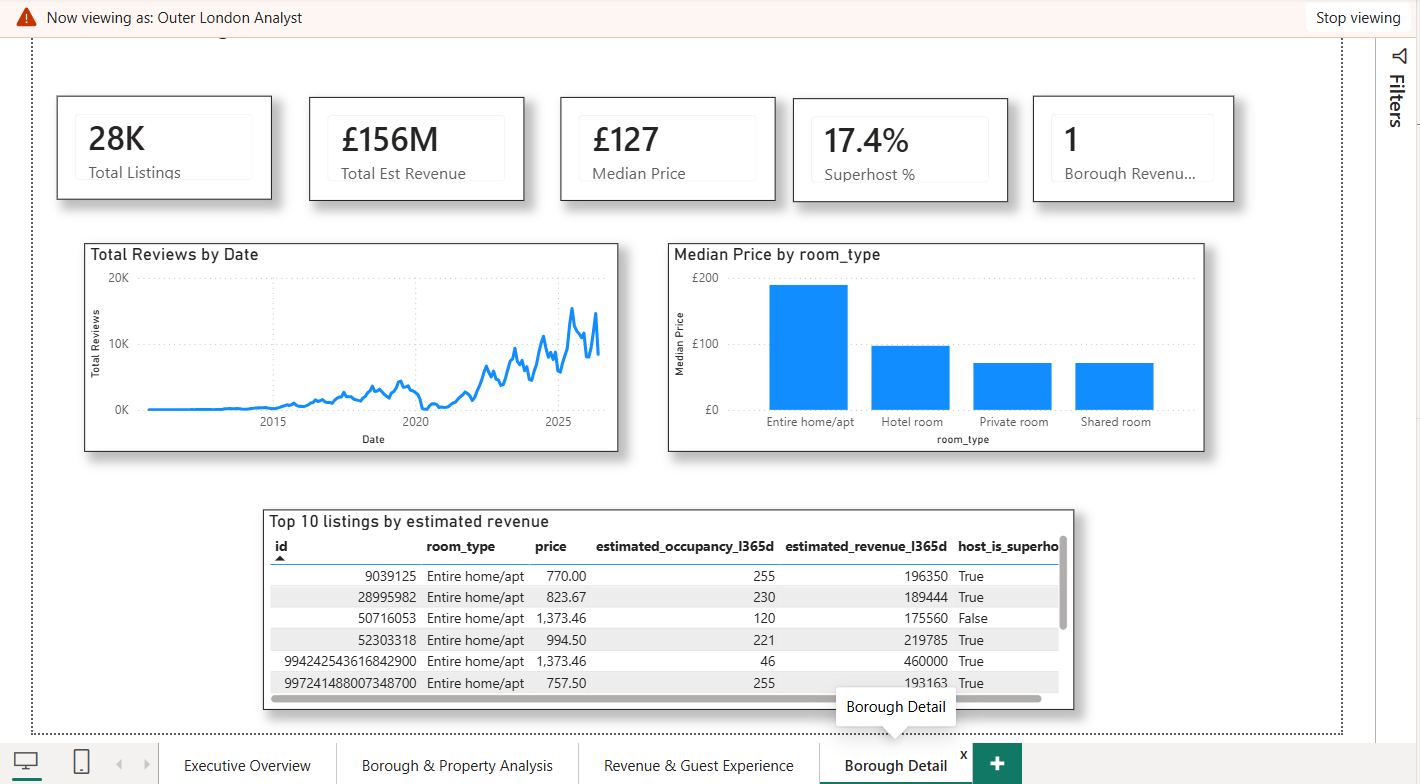

Layout of this report page (visuals, bound fields, positions):
{"tool":"powerbi","page":{"name":"Borough Detail","canvas":[1280,720],"ordinal":3},"visuals":[{"type":"textbox","box":[122.3,12.2,210.3,50.1],"z":0},{"type":"actionButton","box":[0,0,100,40],"z":1000},{"type":"cardVisual","fields":{"Data":["Measures (2).Total Listings"]},"box":[23.2,96.6,210.3,101.5],"z":2000},{"type":"cardVisual","fields":{"Data":["Measures (2).Total Est Revenue"]},"box":[270.2,97.8,210.3,101.5],"z":3000},{"type":"cardVisual","fields":{"Data":["Measures (2).Median Price"]},"box":[516,97.8,210.3,101.5],"z":4000},{"type":"cardVisual","fields":{"Data":["Measures (2).Superhost %"]},"box":[743.5,99,210.3,101.5],"z":5000},{"type":"lineChart","fields":{"Category":["DimDate.Date"],"Y":["Measures (2).Total Reviews"]},"box":[50.1,240.9,522.1,204.2],"z":6000},{"type":"clusteredColumnChart","fields":{"Category":["listings_clean.room_type"],"Y":["Measures (2).Median Price"]},"box":[621.2,240.9,524.6,204.2],"z":7000},{"type":"cardVisual","title":"Revenue Rank","fields":{"Data":["Measures (2).Borough Revenue Rank"]},"box":[978.3,96.6,196.9,103.9],"z":8000},{"type":"tableEx","title":"Top 10 listings by estimated revenue","fields":{"Values":["listings_clean.id","listings_clean.room_type","listings_clean.price","listings_clean.estimated_occupancy_l365d","listings_clean.estimated_revenue_l365d","listings_clean.host_is_superhost"]},"box":[225,501.4,793.6,195.7],"z":9000}]}

Visuals, with their boxes on the page's 1280x720 design canvas (x1, y1, x2, y2). These are canvas units, not pixel positions in the 1420x784 screenshot, which may show the page scaled, cropped or inside an application window:
textbox: bbox=(122, 12, 333, 62)
actionButton: bbox=(0, 0, 100, 40)
cardVisual - Measures (2).Total Listings: bbox=(23, 97, 234, 198)
cardVisual - Measures (2).Total Est Revenue: bbox=(270, 98, 480, 199)
cardVisual - Measures (2).Median Price: bbox=(516, 98, 726, 199)
cardVisual - Measures (2).Superhost %: bbox=(744, 99, 954, 200)
lineChart - DimDate.Date x Measures (2).Total Reviews: bbox=(50, 241, 572, 445)
clusteredColumnChart - listings_clean.room_type x Measures (2).Median Price: bbox=(621, 241, 1146, 445)
"Revenue Rank" cardVisual: bbox=(978, 97, 1175, 200)
"Top 10 listings by estimated revenue" tableEx: bbox=(225, 501, 1019, 697)
